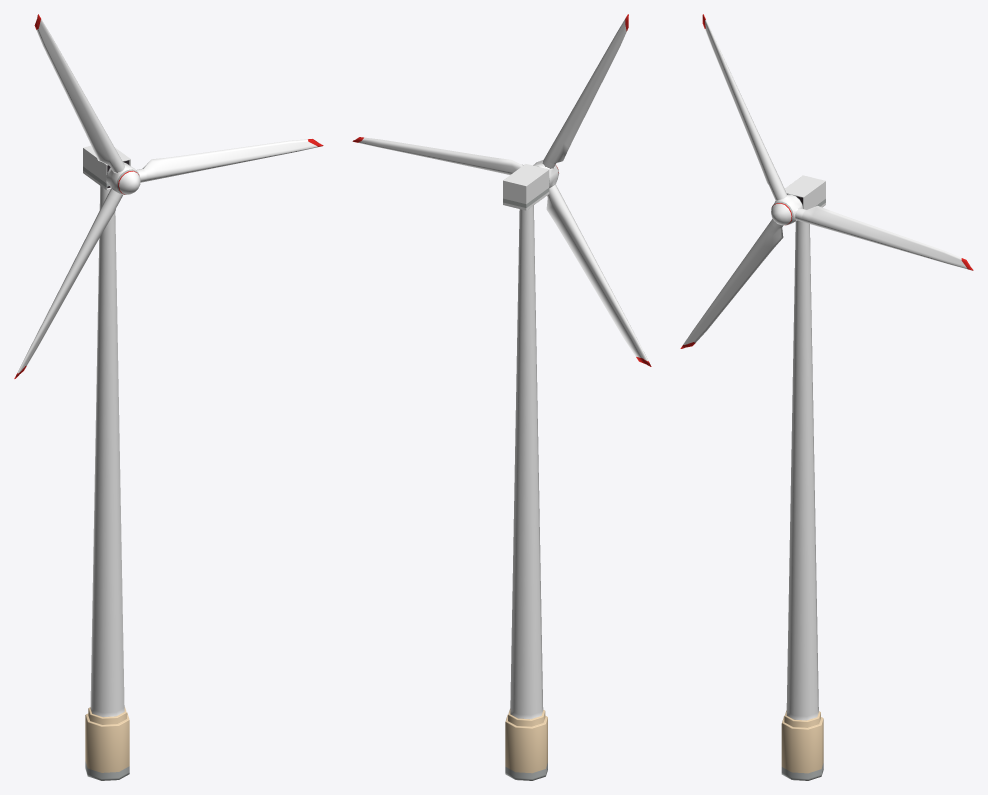
Rendered from EolicAnimate1m.glb.
3 views of the same model, side by side, from view 1: azimuth 30°, elevation 25°; view 2: azimuth 150°, elevation 25°; view 3: azimuth 330°, elevation 25° (orthographic). The views are drawn at different scales.
Visible parts, largest first — view 1: Cylinder.003, Cylinder.004, Cube.001; view 2: Cylinder.003, Cylinder.004, Cube.001; view 3: Cylinder.003, Cylinder.004, Cube.001.
Boxes of the visible parts, x1,y1,x2,y2 form: Cylinder.003: [85, 186, 129, 780]; Cylinder.004: [14, 14, 323, 378]; Cube.001: [83, 145, 130, 190]; Cylinder.003: [505, 205, 547, 780]; Cylinder.004: [352, 14, 651, 366]; Cube.001: [503, 164, 549, 210]; Cylinder.003: [781, 220, 823, 780]; Cylinder.004: [680, 14, 973, 348]; Cube.001: [785, 175, 825, 209].
Size of the model in its own units: 0.5377 by 1.32 by 0.1198.
1 material, 1 textured.
